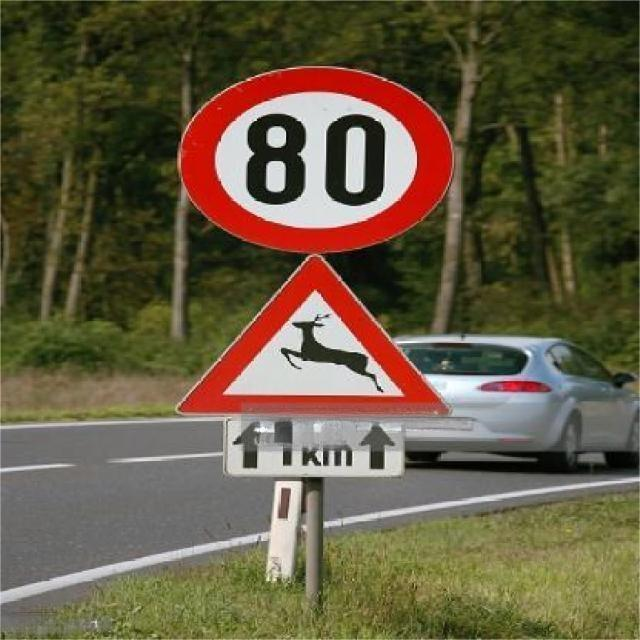speed limit 80: (180, 64, 454, 255)
